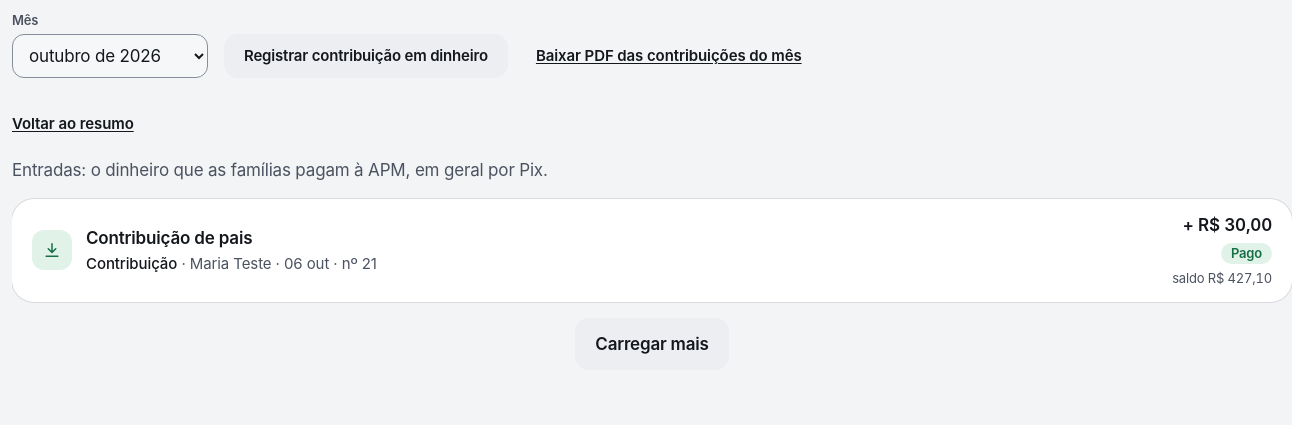
Test: PainelData: lancamentos por tipo › carregar mais: segue o cursor e acrescenta; o botao some na ultima pagina
This screenshot has width=1292, height=425.
Expected: the number of list items is 1, x1=12 y1=199 x2=1291 y2=302
Click the button "Carregar mais": (652, 344) x1=575 y1=318 x2=729 y2=370
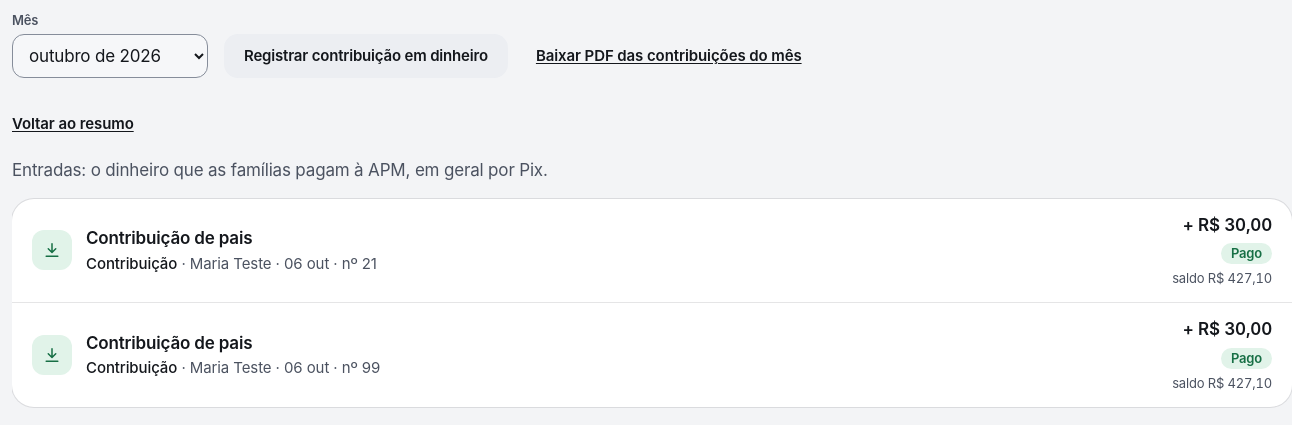
Now the number of list items is 2, box x1=12 y1=199 x2=1291 y2=303; x1=12 y1=303 x2=1291 y2=407
Now the button "Carregar mais" is gone
